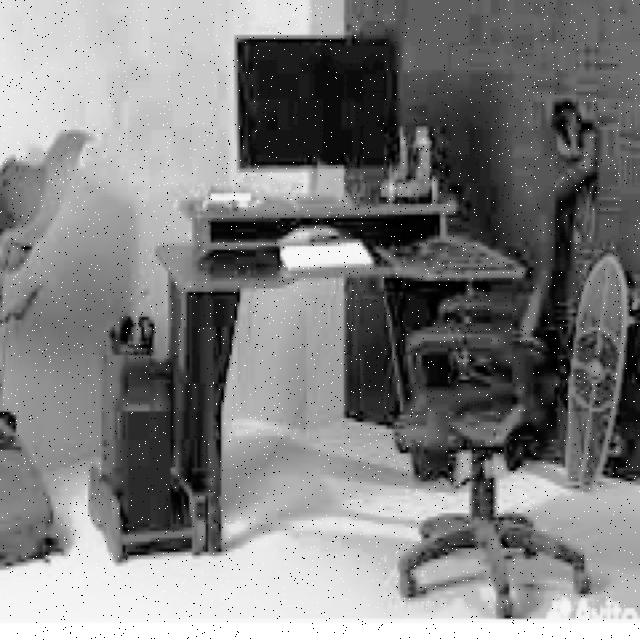table: (152, 193, 525, 552)
